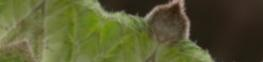Tomato leaf late blight: (48, 0, 187, 62)
